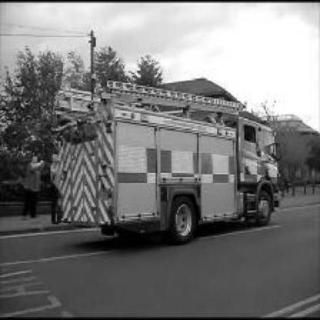other: (54, 118, 112, 224)
